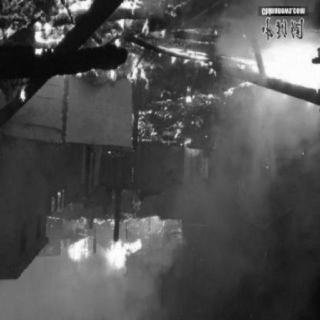Fire: (53, 2, 319, 300), (0, 2, 56, 114)
